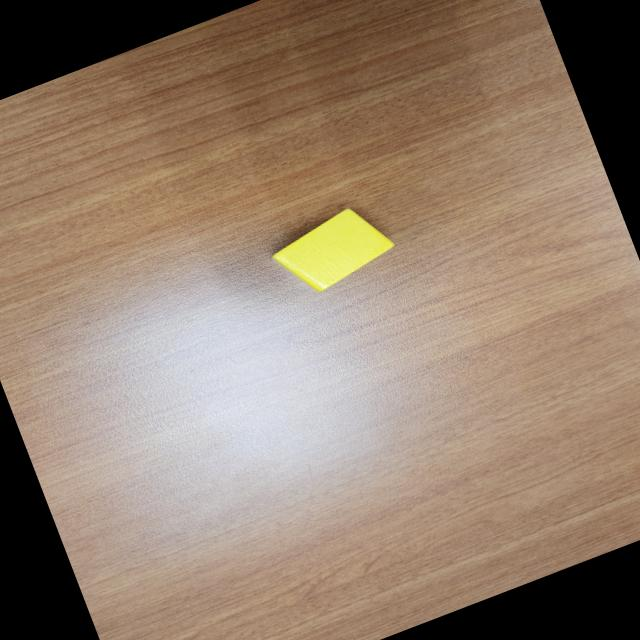yellow: (264, 197, 402, 304)
